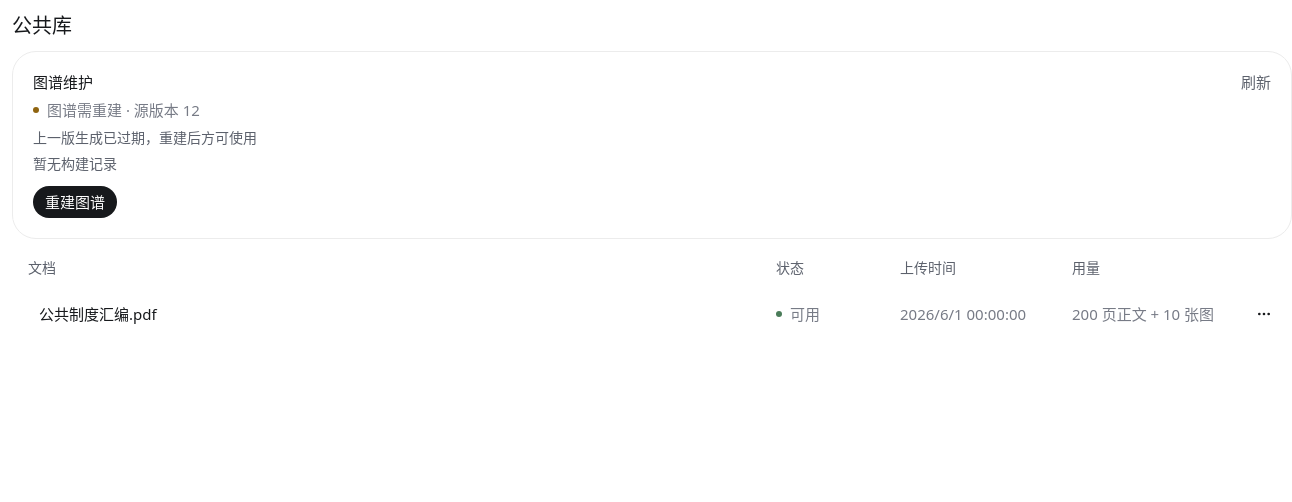
公共库（§7.2 ops / §7.3 admin） › permission=manage（ops）：行操作菜单渲染版本记录 / 重建索引 / 上传新版本 / 删除
Expected: the button "公共制度汇编.pdf" is shown, [28,299,168,329]
Click the button named "文档 公共制度汇编.pdf 操作" at x=1264, y=314, box [1252,302,1276,326]
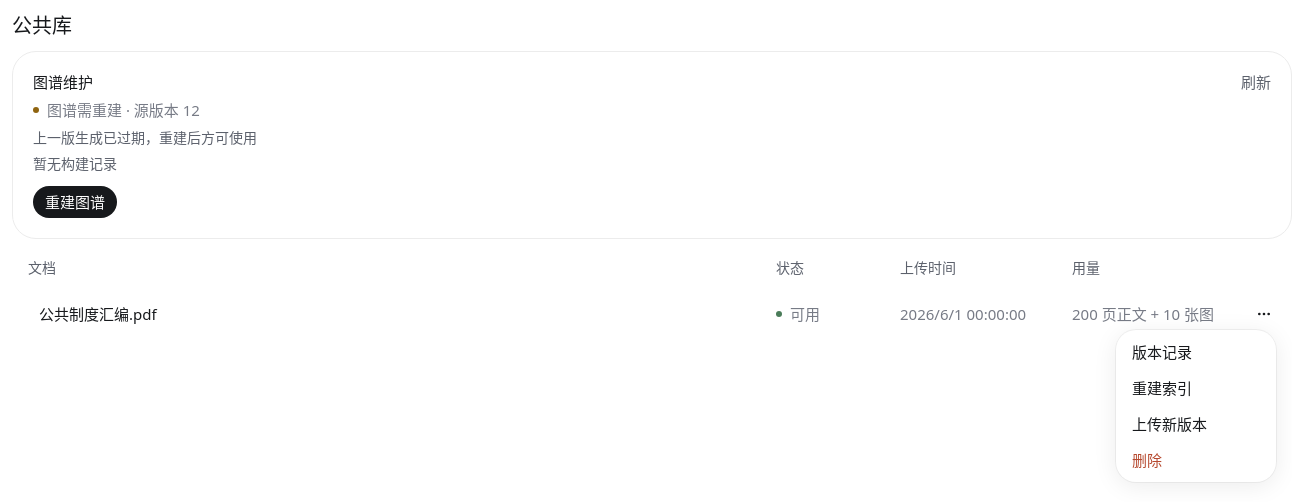
Now the menu item "版本记录" is shown, box [1132,342,1192,362]
Now the menu item "重建索引" is shown, box [1132,378,1192,398]
Now the menu item "上传新版本" is shown, box [1132,414,1207,434]
